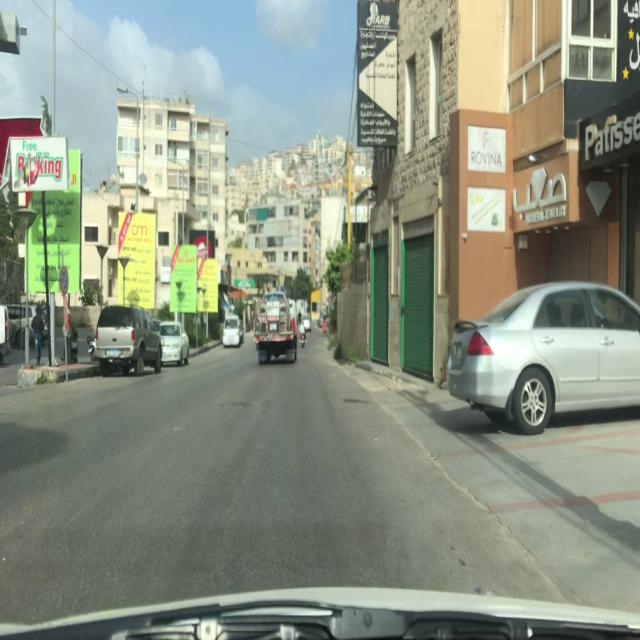Pothole: (218, 398, 256, 411)
